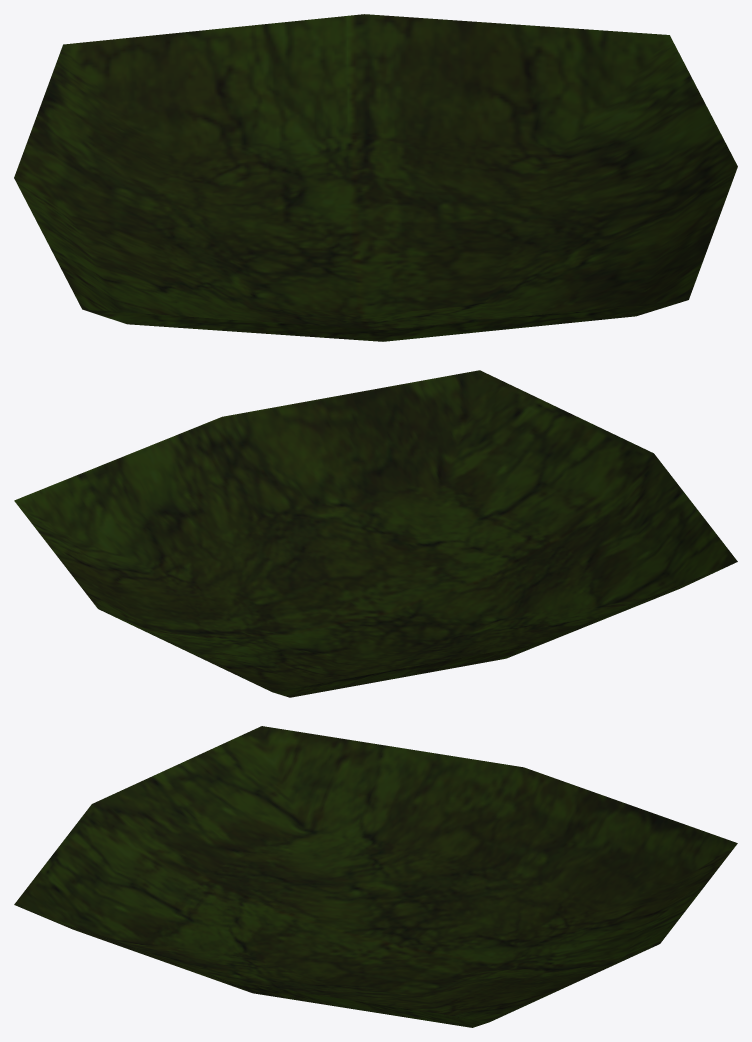
File: Swamp_BackView.FBX
3 views of the same model, one above another, from view 1: azimuth 30°, elevation 25°; view 2: azimuth 150°, elevation 25°; view 3: azimuth 270°, elevation 25° (orthographic). The views are drawn at different scales.
Parts seen in each view (by area): view 1: BackView; view 2: BackView; view 3: BackView.
Boxes of the visible parts, x1,y1,x2,y2 form: BackView: (14, 14, 737, 341); BackView: (14, 370, 737, 697); BackView: (14, 726, 737, 1027).
Size of the model in its own units: 8205 by 1083 by 8557.
